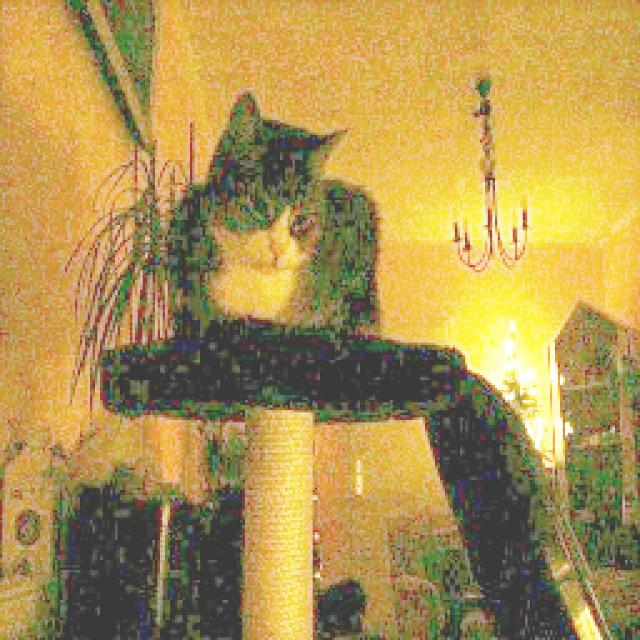cat: (162, 91, 396, 345)
